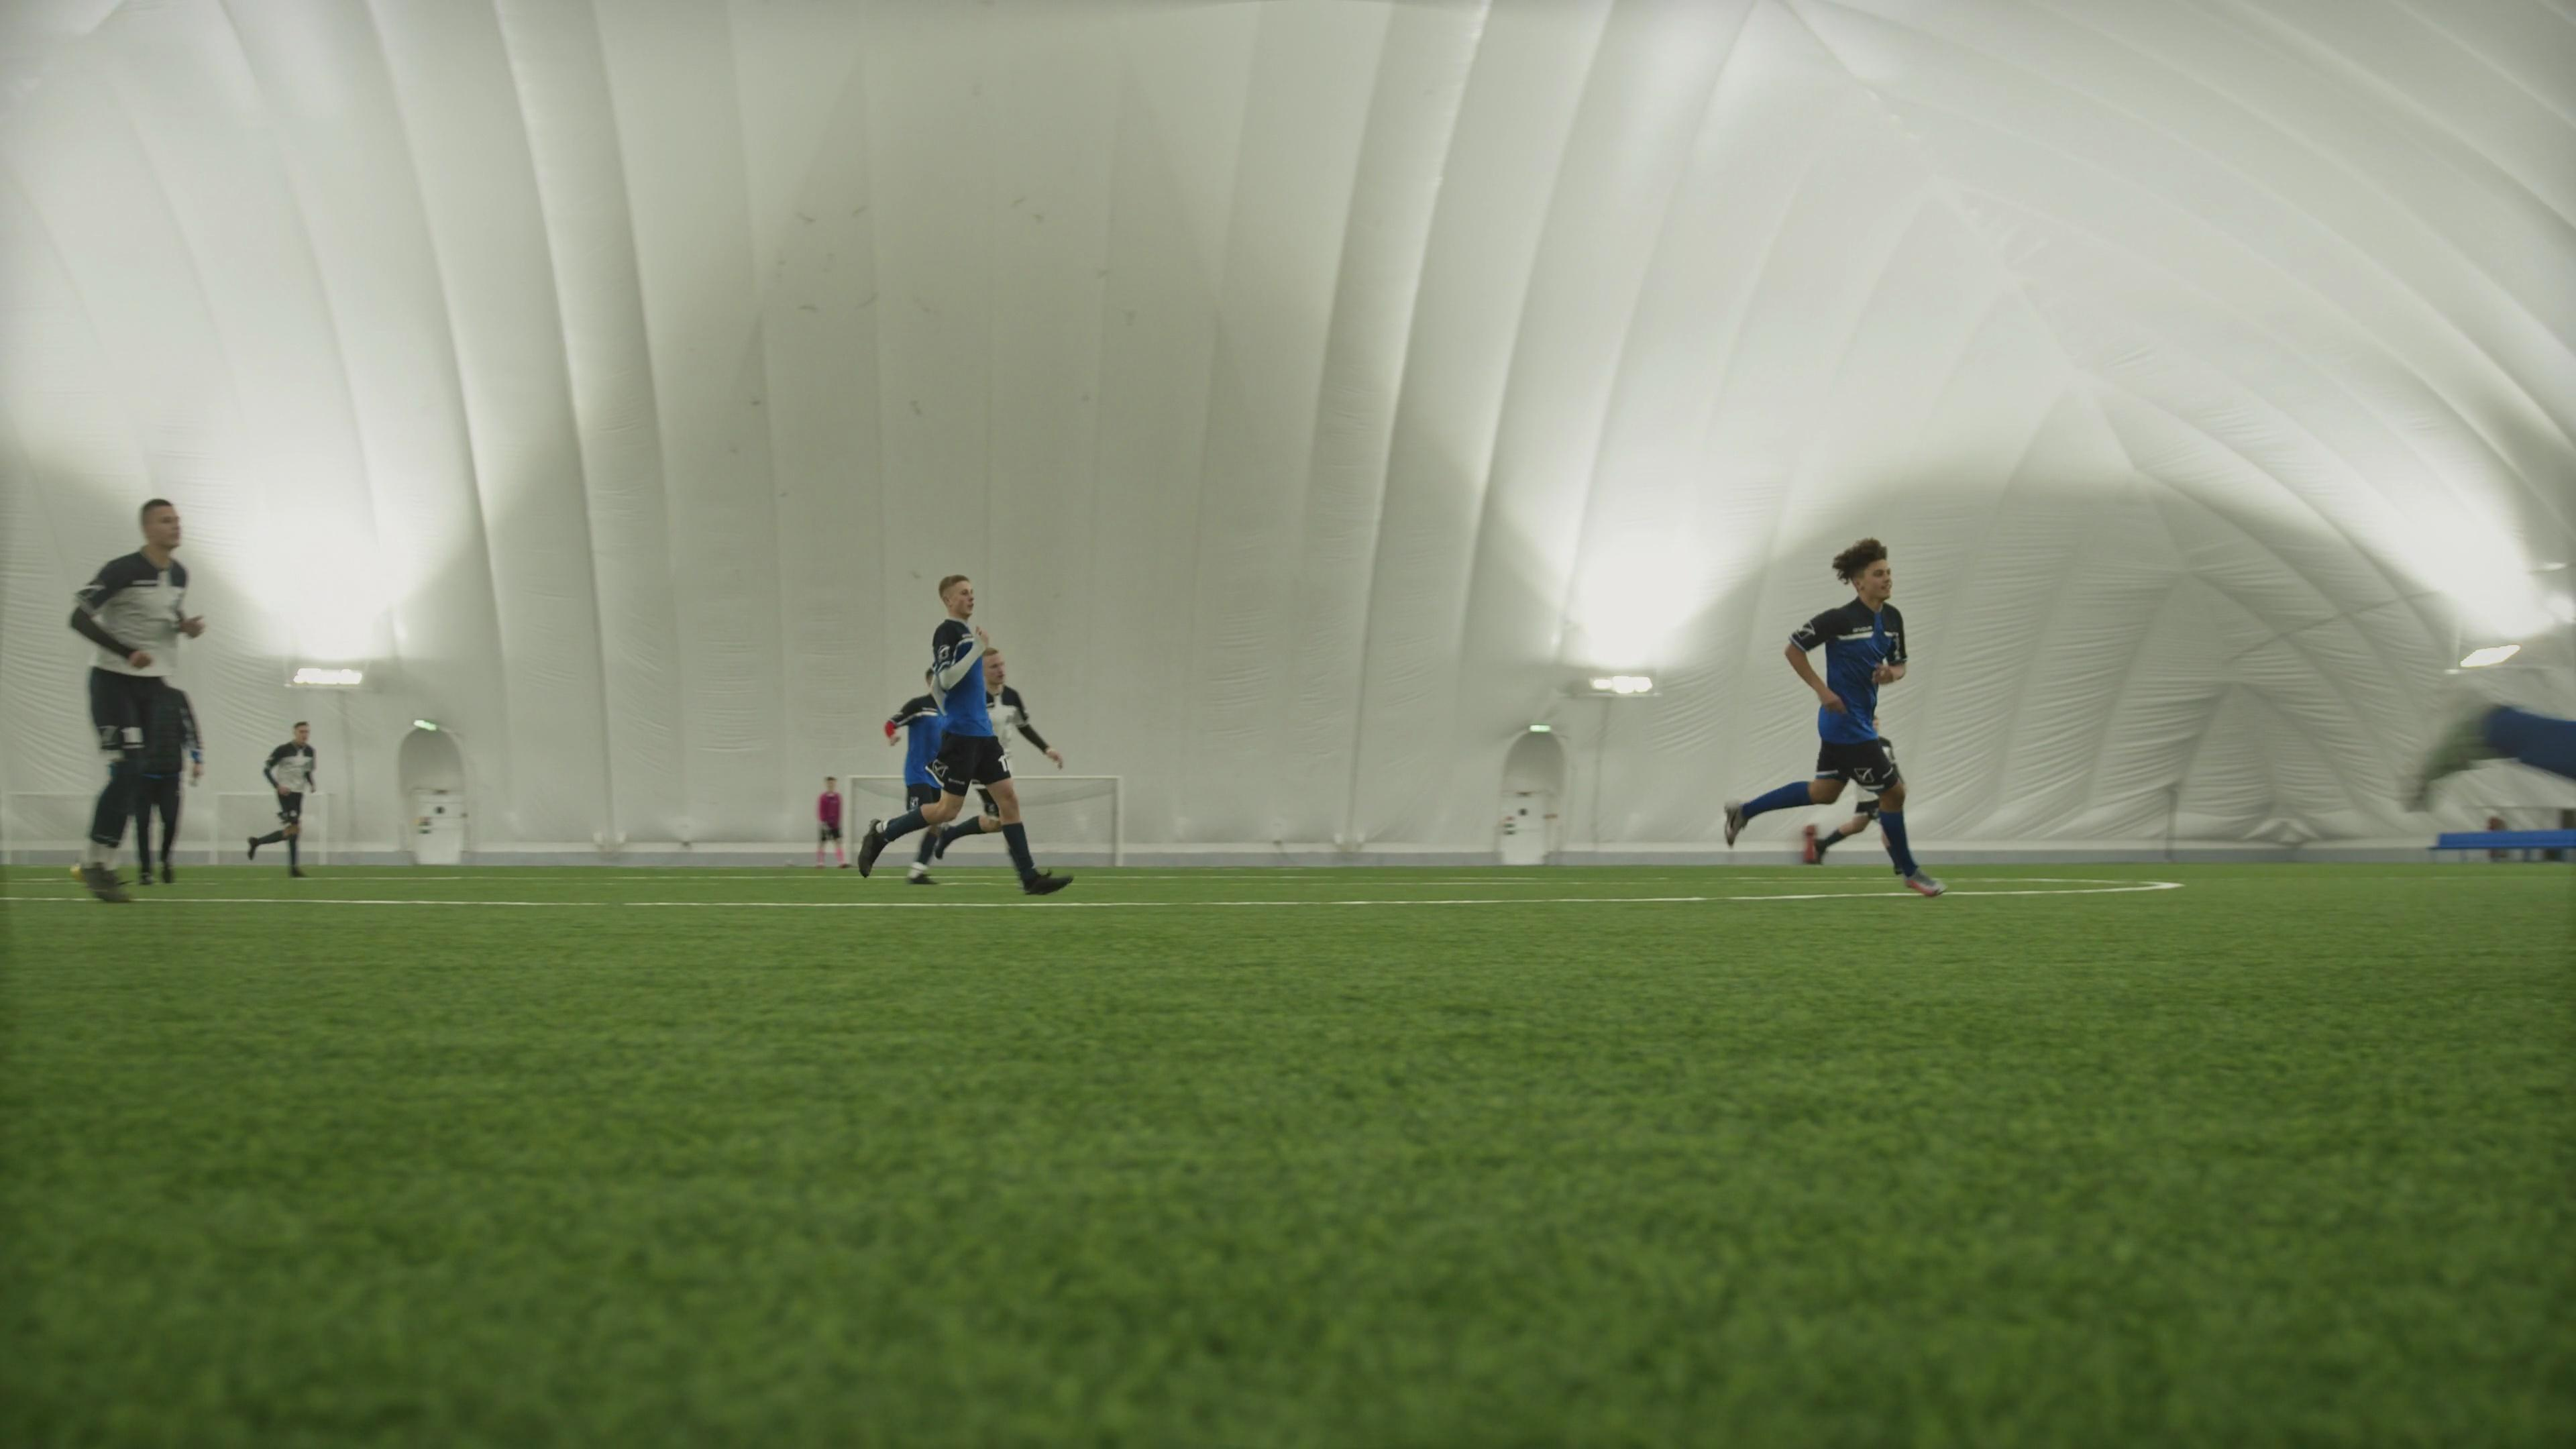team1: (874, 571, 1063, 895), (1785, 538, 1944, 899), (883, 672, 945, 810)
team1gk: (814, 780, 847, 863)
team2: (67, 497, 207, 897), (260, 718, 320, 876), (984, 651, 1067, 764)
